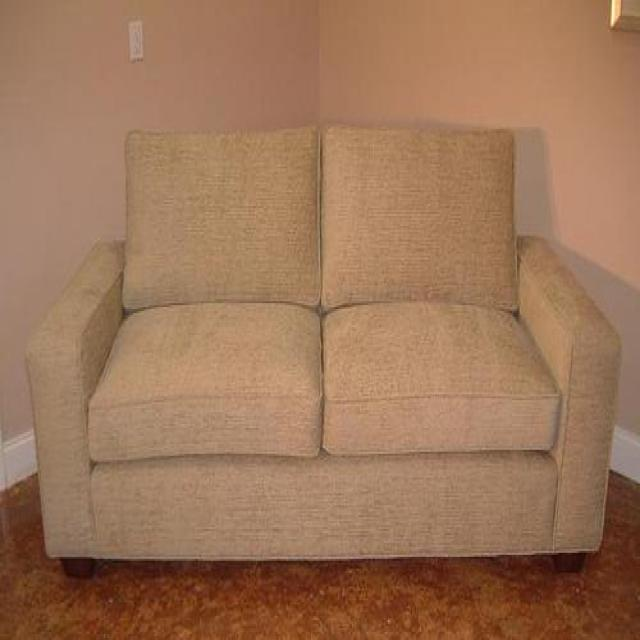sofa: (28, 126, 622, 580)
